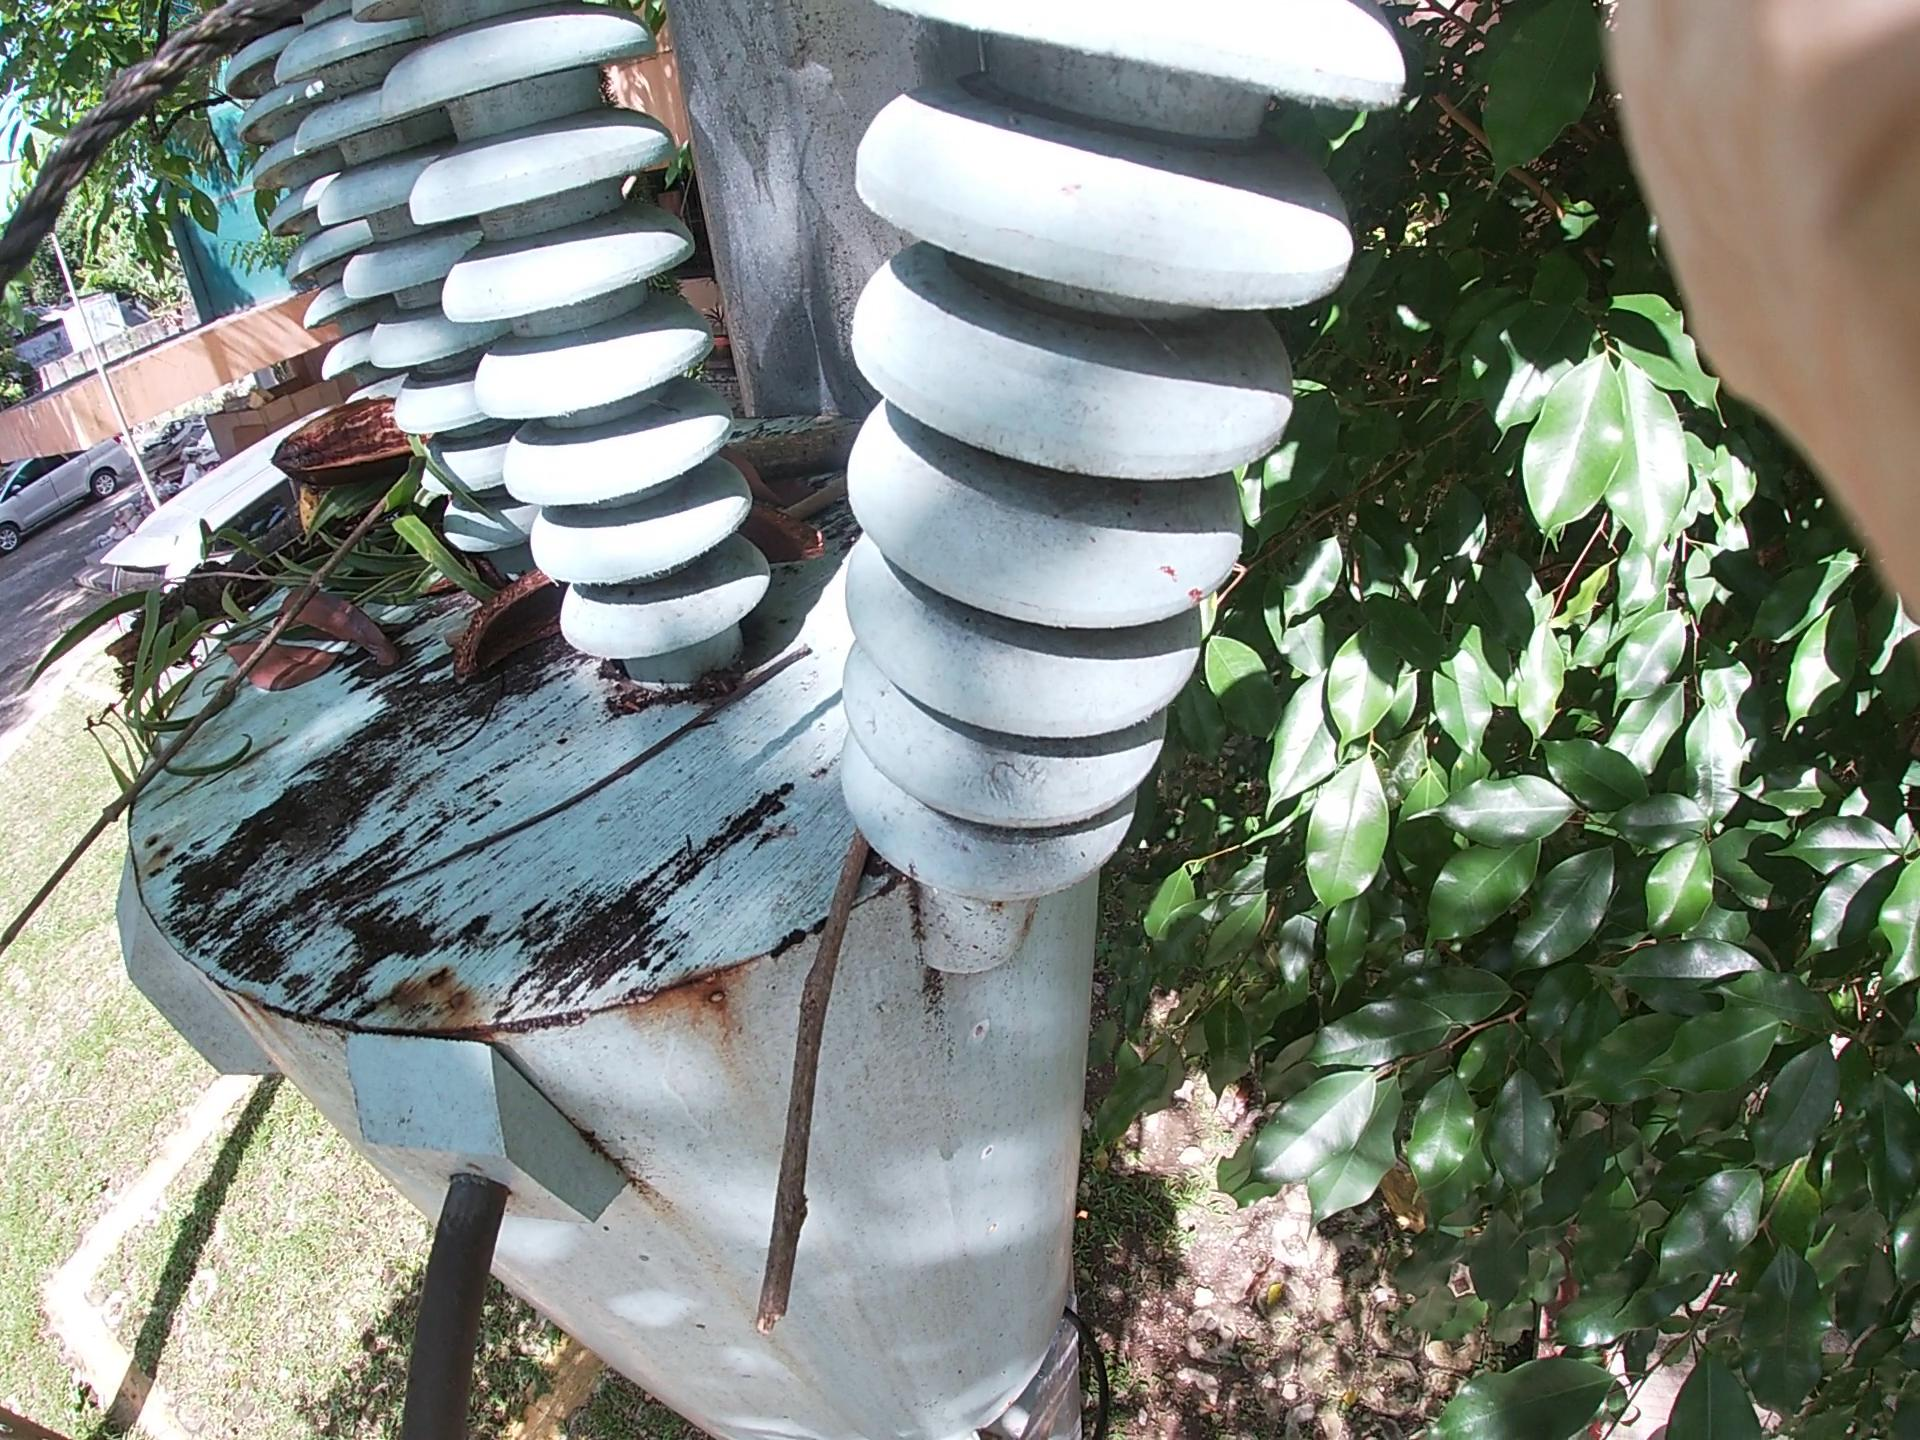branch with leaves: (144, 405, 488, 764)
leaf: (231, 575, 392, 717)
mahogany fruit: (268, 371, 423, 555), (432, 542, 623, 684)
tree branch: (26, 446, 423, 933), (348, 637, 821, 897), (768, 821, 869, 1340)
